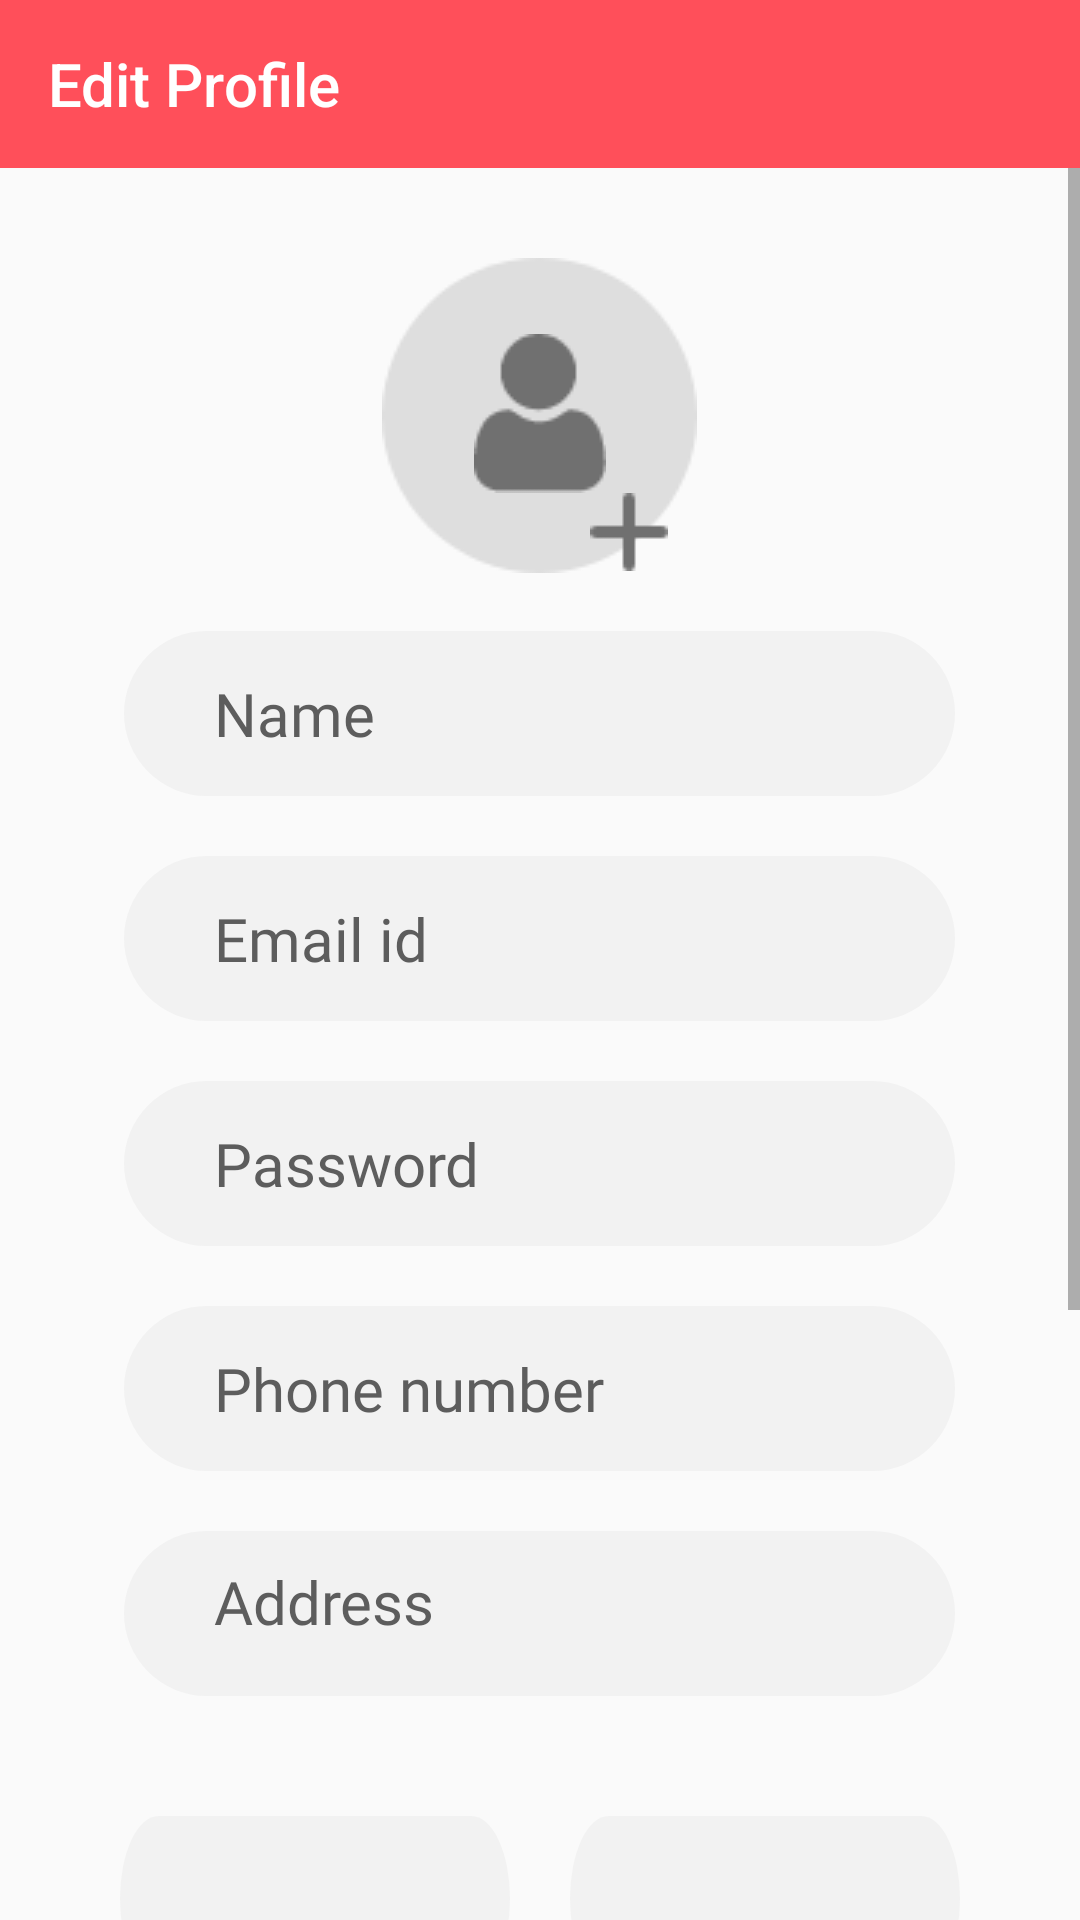

Icon bounding boxes for this 1080 x 1920 phone screenshot, format Rect(x1, y1, x2, y2):
profile: Rect(474, 334, 606, 493)
